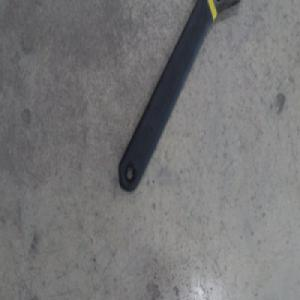AdjustableWrench: (117, 0, 227, 191)
